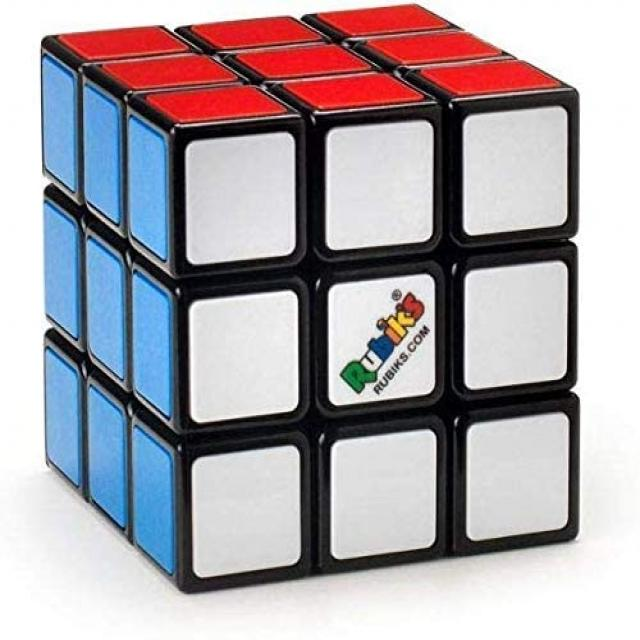cube: (46, 7, 573, 590)
